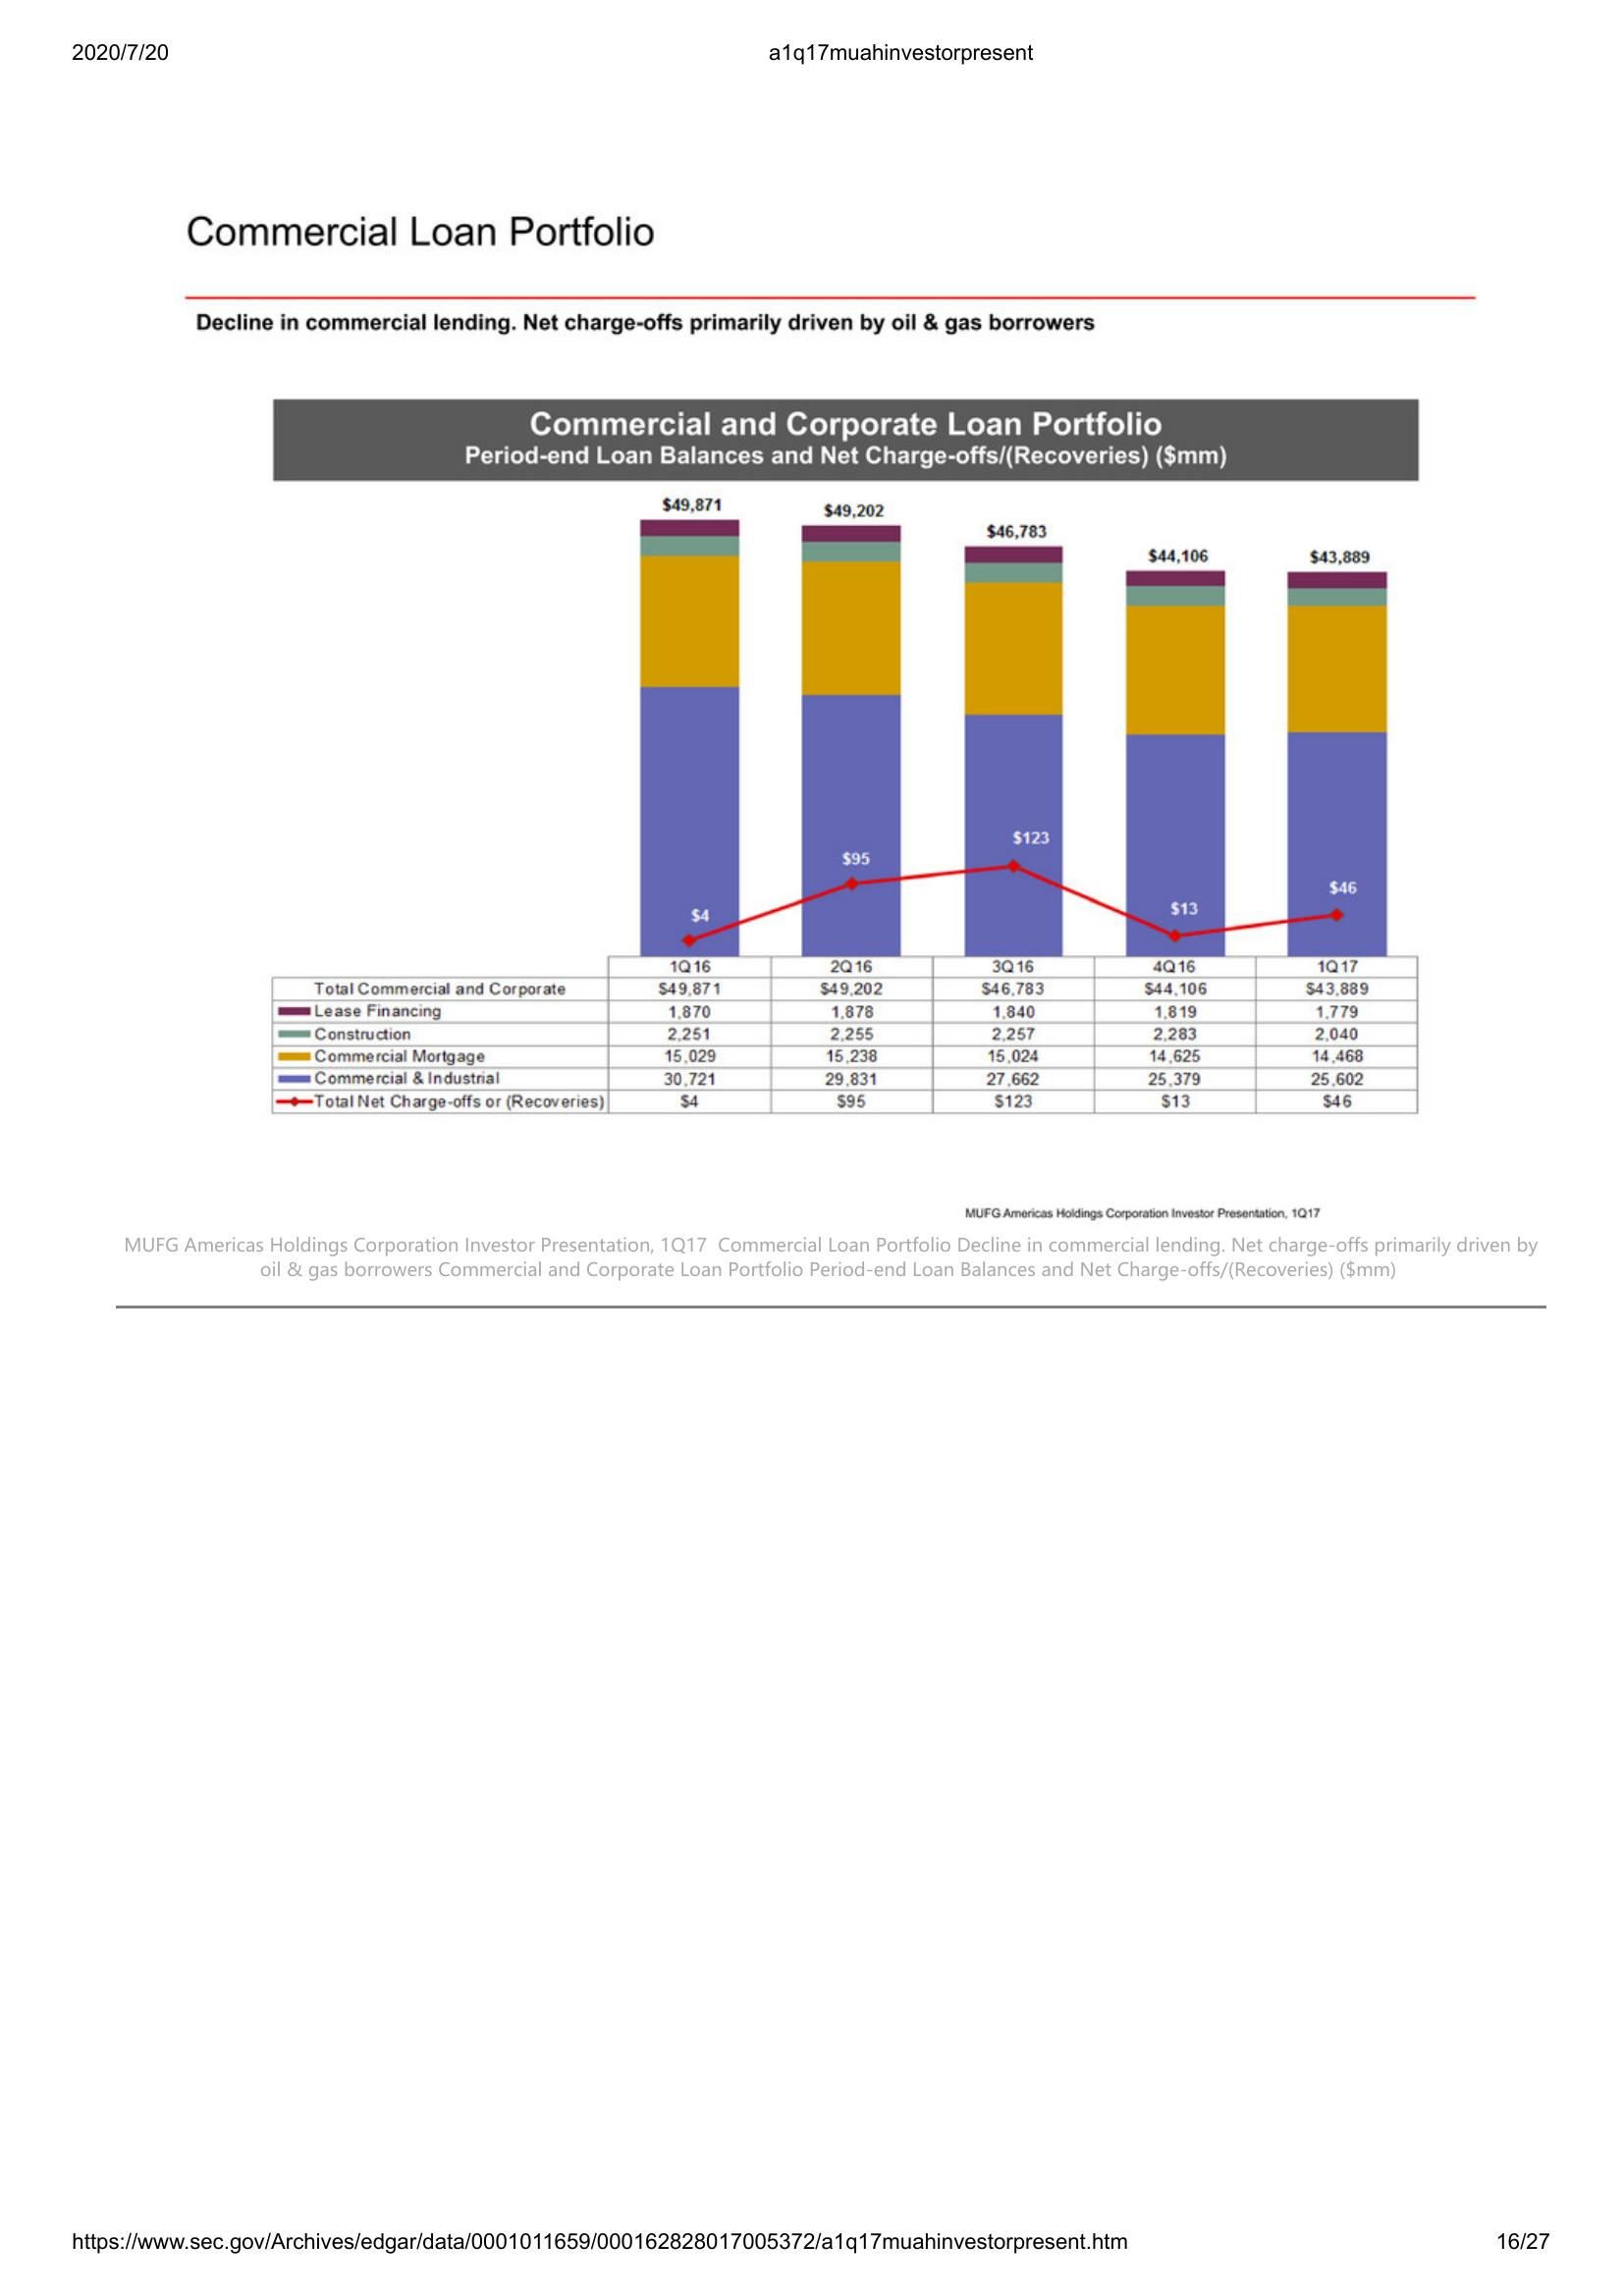table: (267, 967, 1425, 1123)
